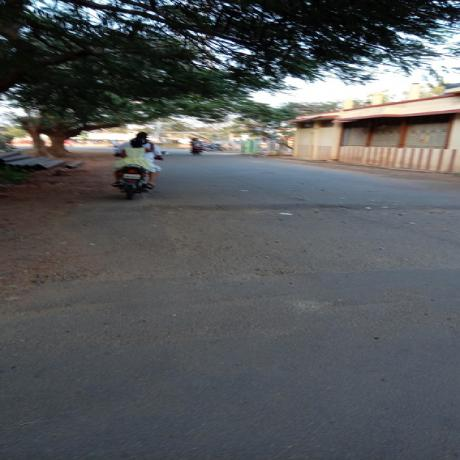Speed Bump: (72, 200, 459, 216)
